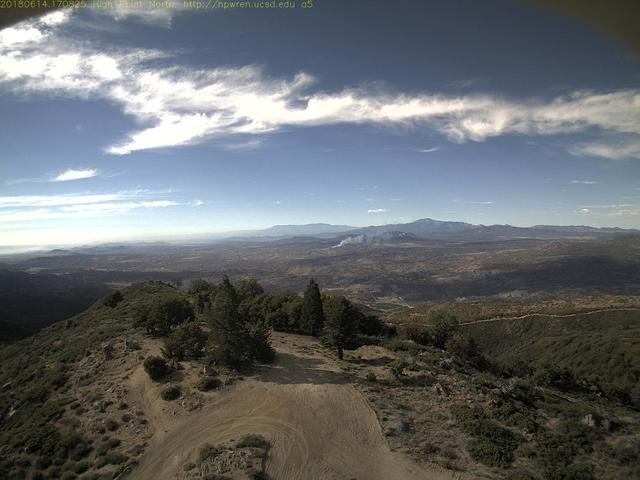smoke: (326, 224, 409, 251)
